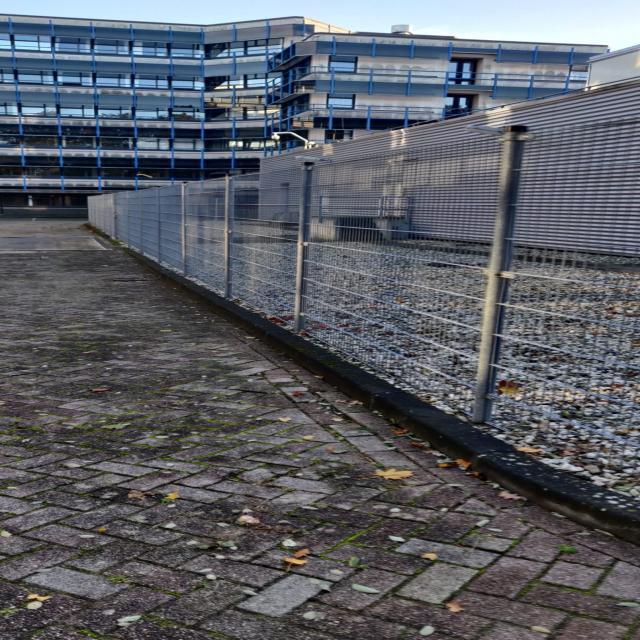fence line: (308, 135, 640, 455), (86, 187, 386, 311)
